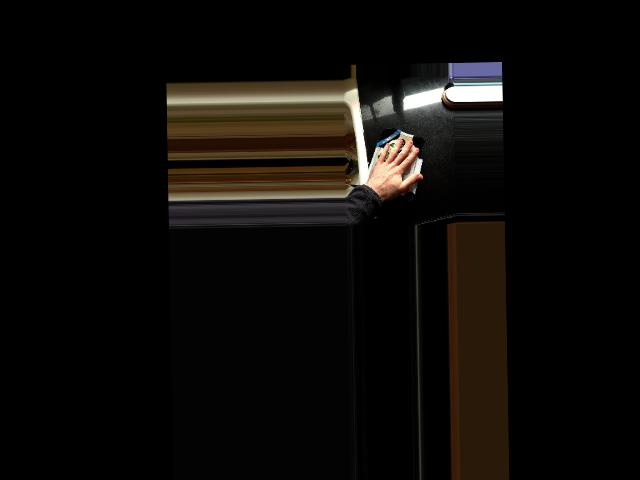cheese: (360, 125, 428, 203)
